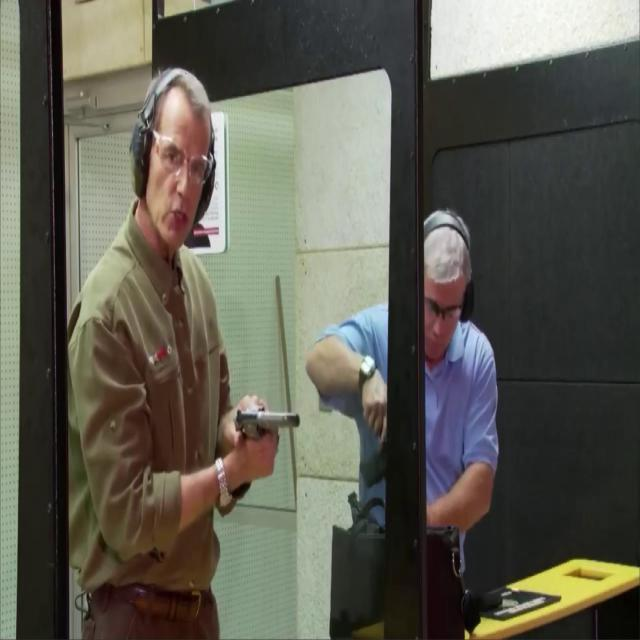weapon: (232, 406, 302, 441), (358, 431, 387, 488)
